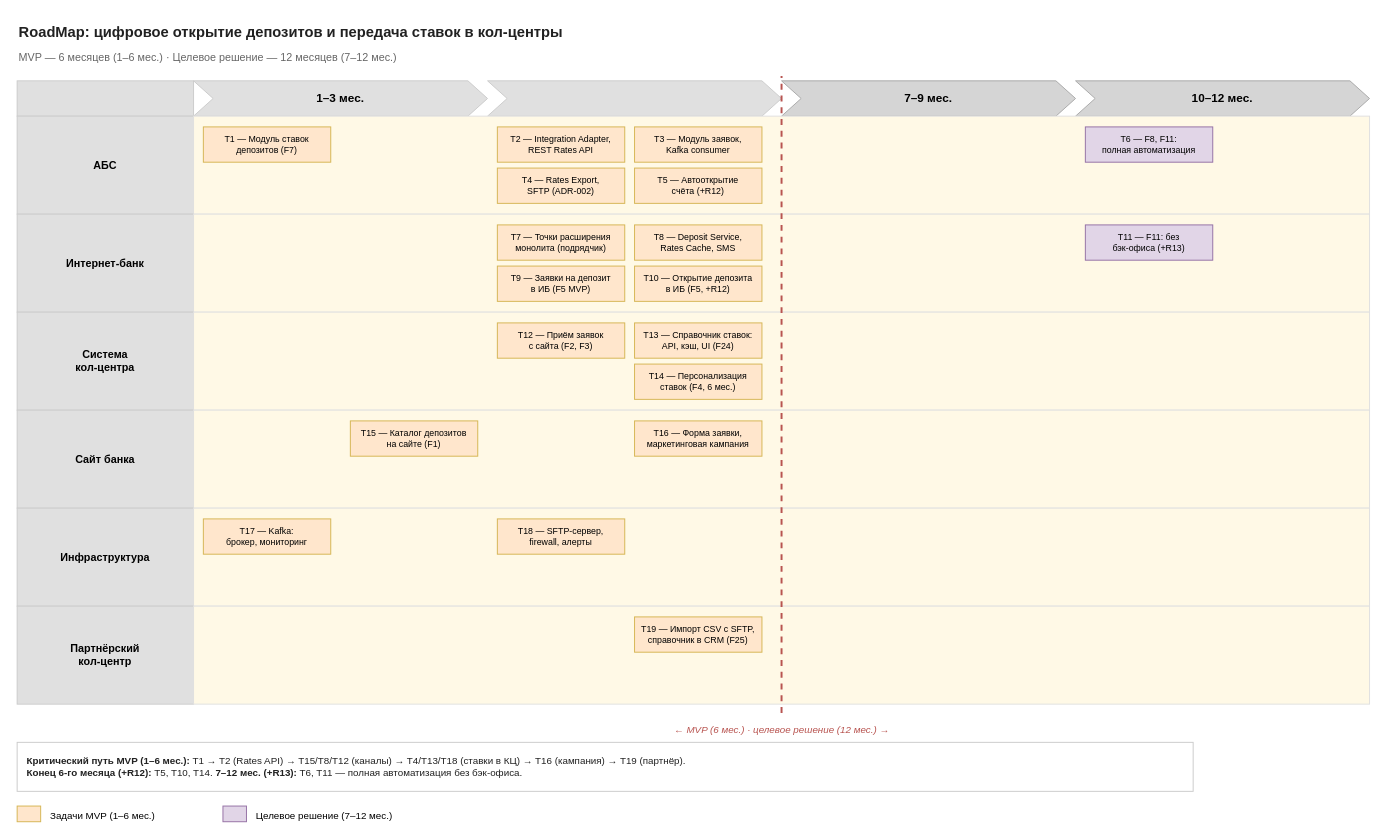
The diagram is 1387 pixels wide and 840 high, and some of its shapes have lost their labels. The shapes that lost their labels are listed below. From the top down, each one's centre as x and y in pixels, then its label:
point 105,98: Система
point 634,98: 4–6 мес.
